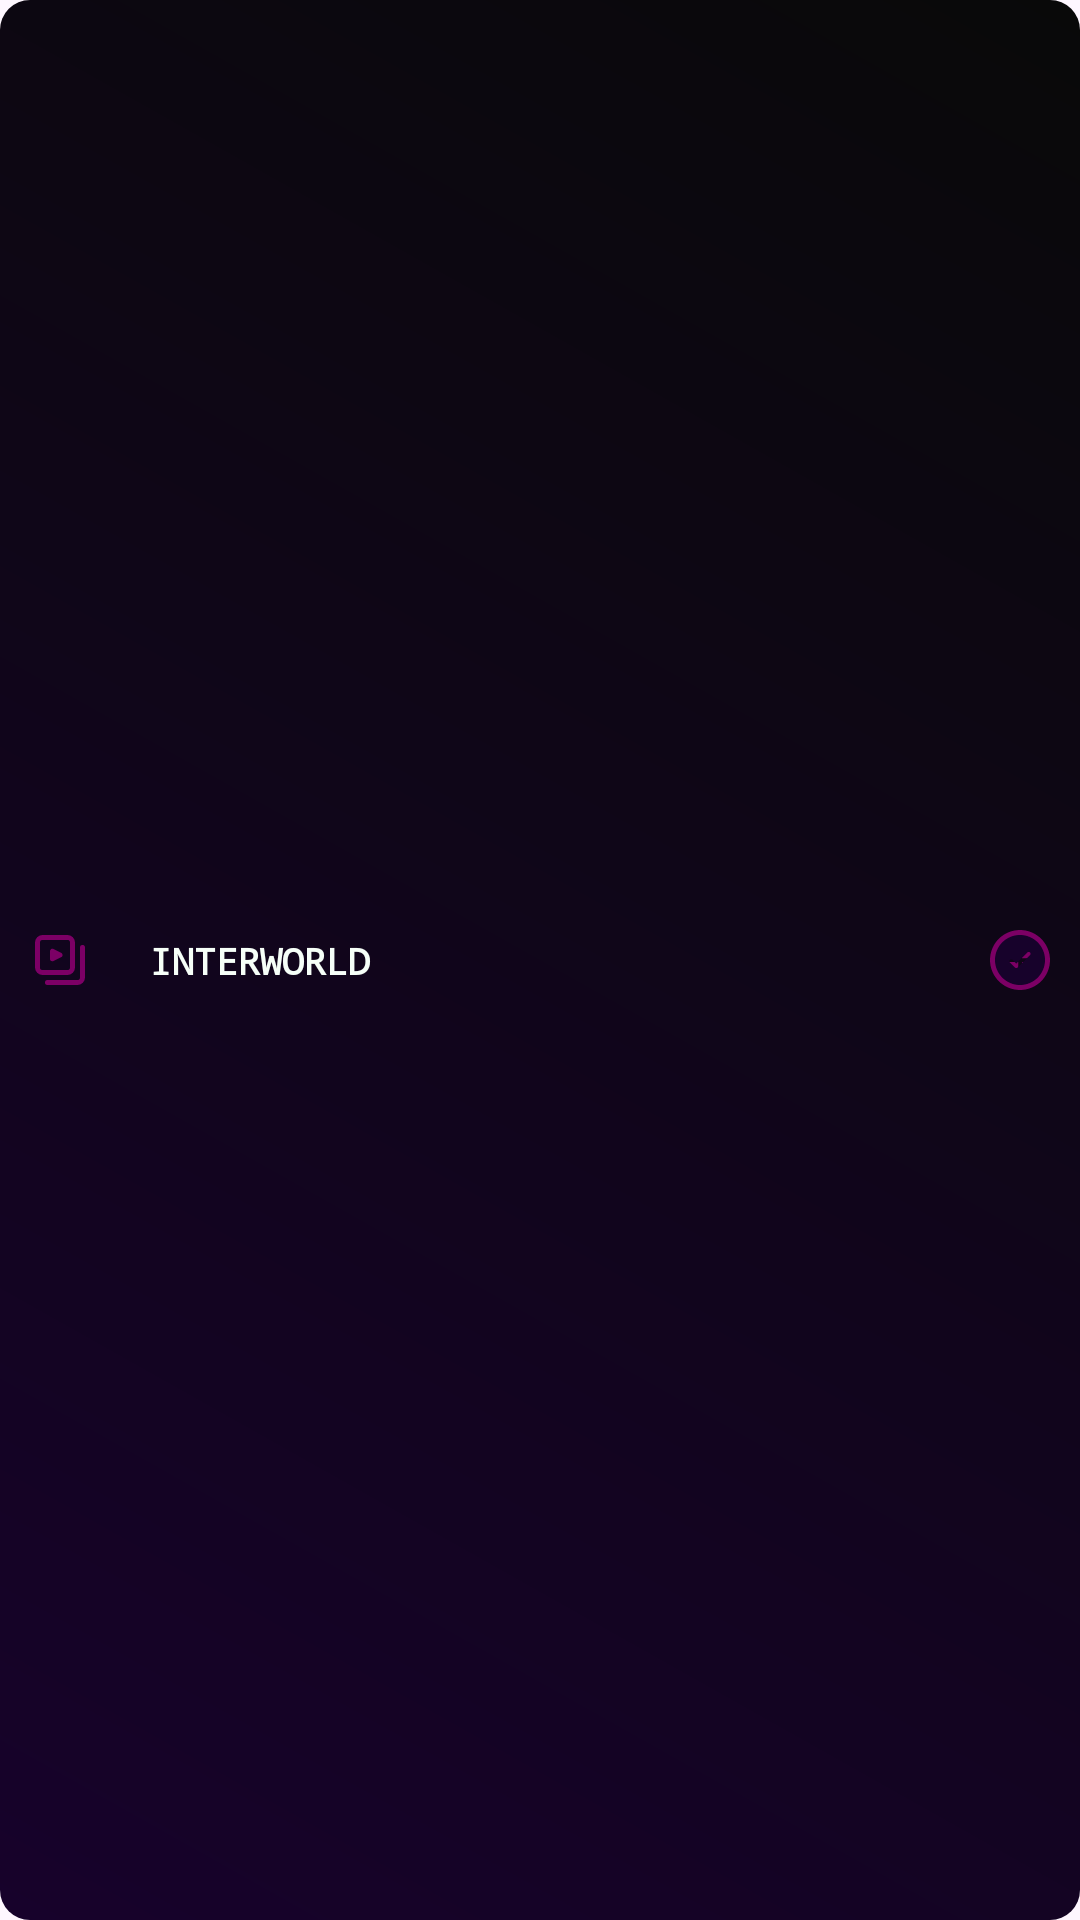

Where icons sit on this 1080w x 1920h app screen, as (x1, y1, x2, y2):
playlist: (35, 935, 85, 985)
